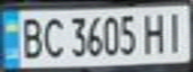0: (103, 12, 121, 57)
3: (66, 14, 87, 58)
5: (118, 11, 142, 56)
6: (84, 12, 106, 59)
B: (15, 14, 45, 61)
C: (39, 13, 66, 60)
H: (139, 9, 172, 55)
I: (160, 8, 190, 54)
